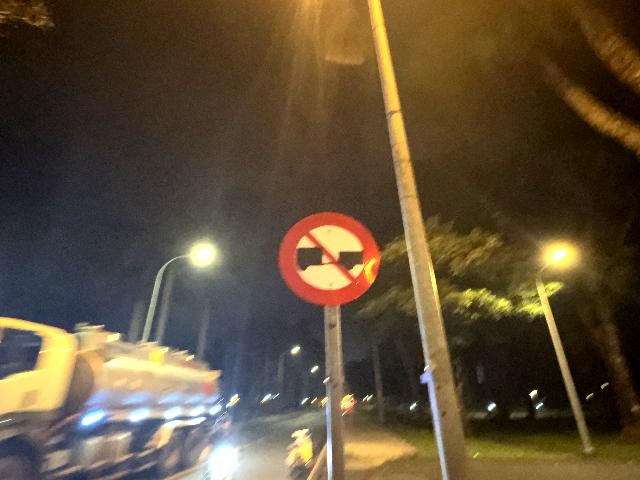cam-xe-somi-romooc: (279, 209, 381, 306)
